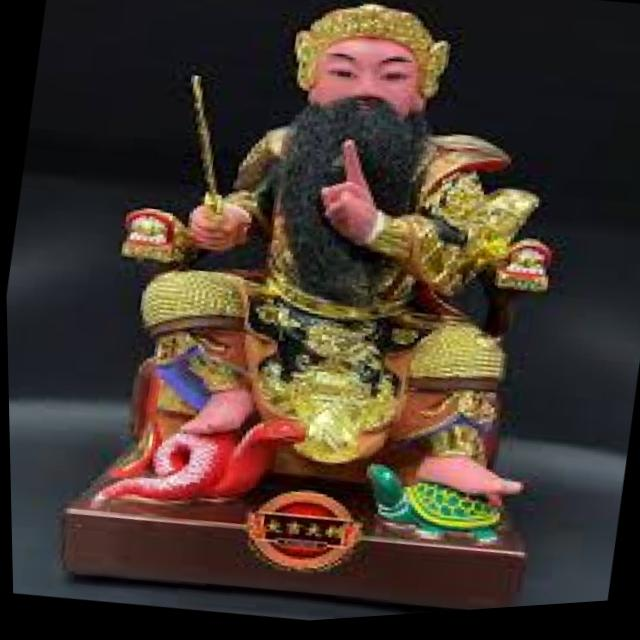Xuan wu: (106, 0, 597, 530)
